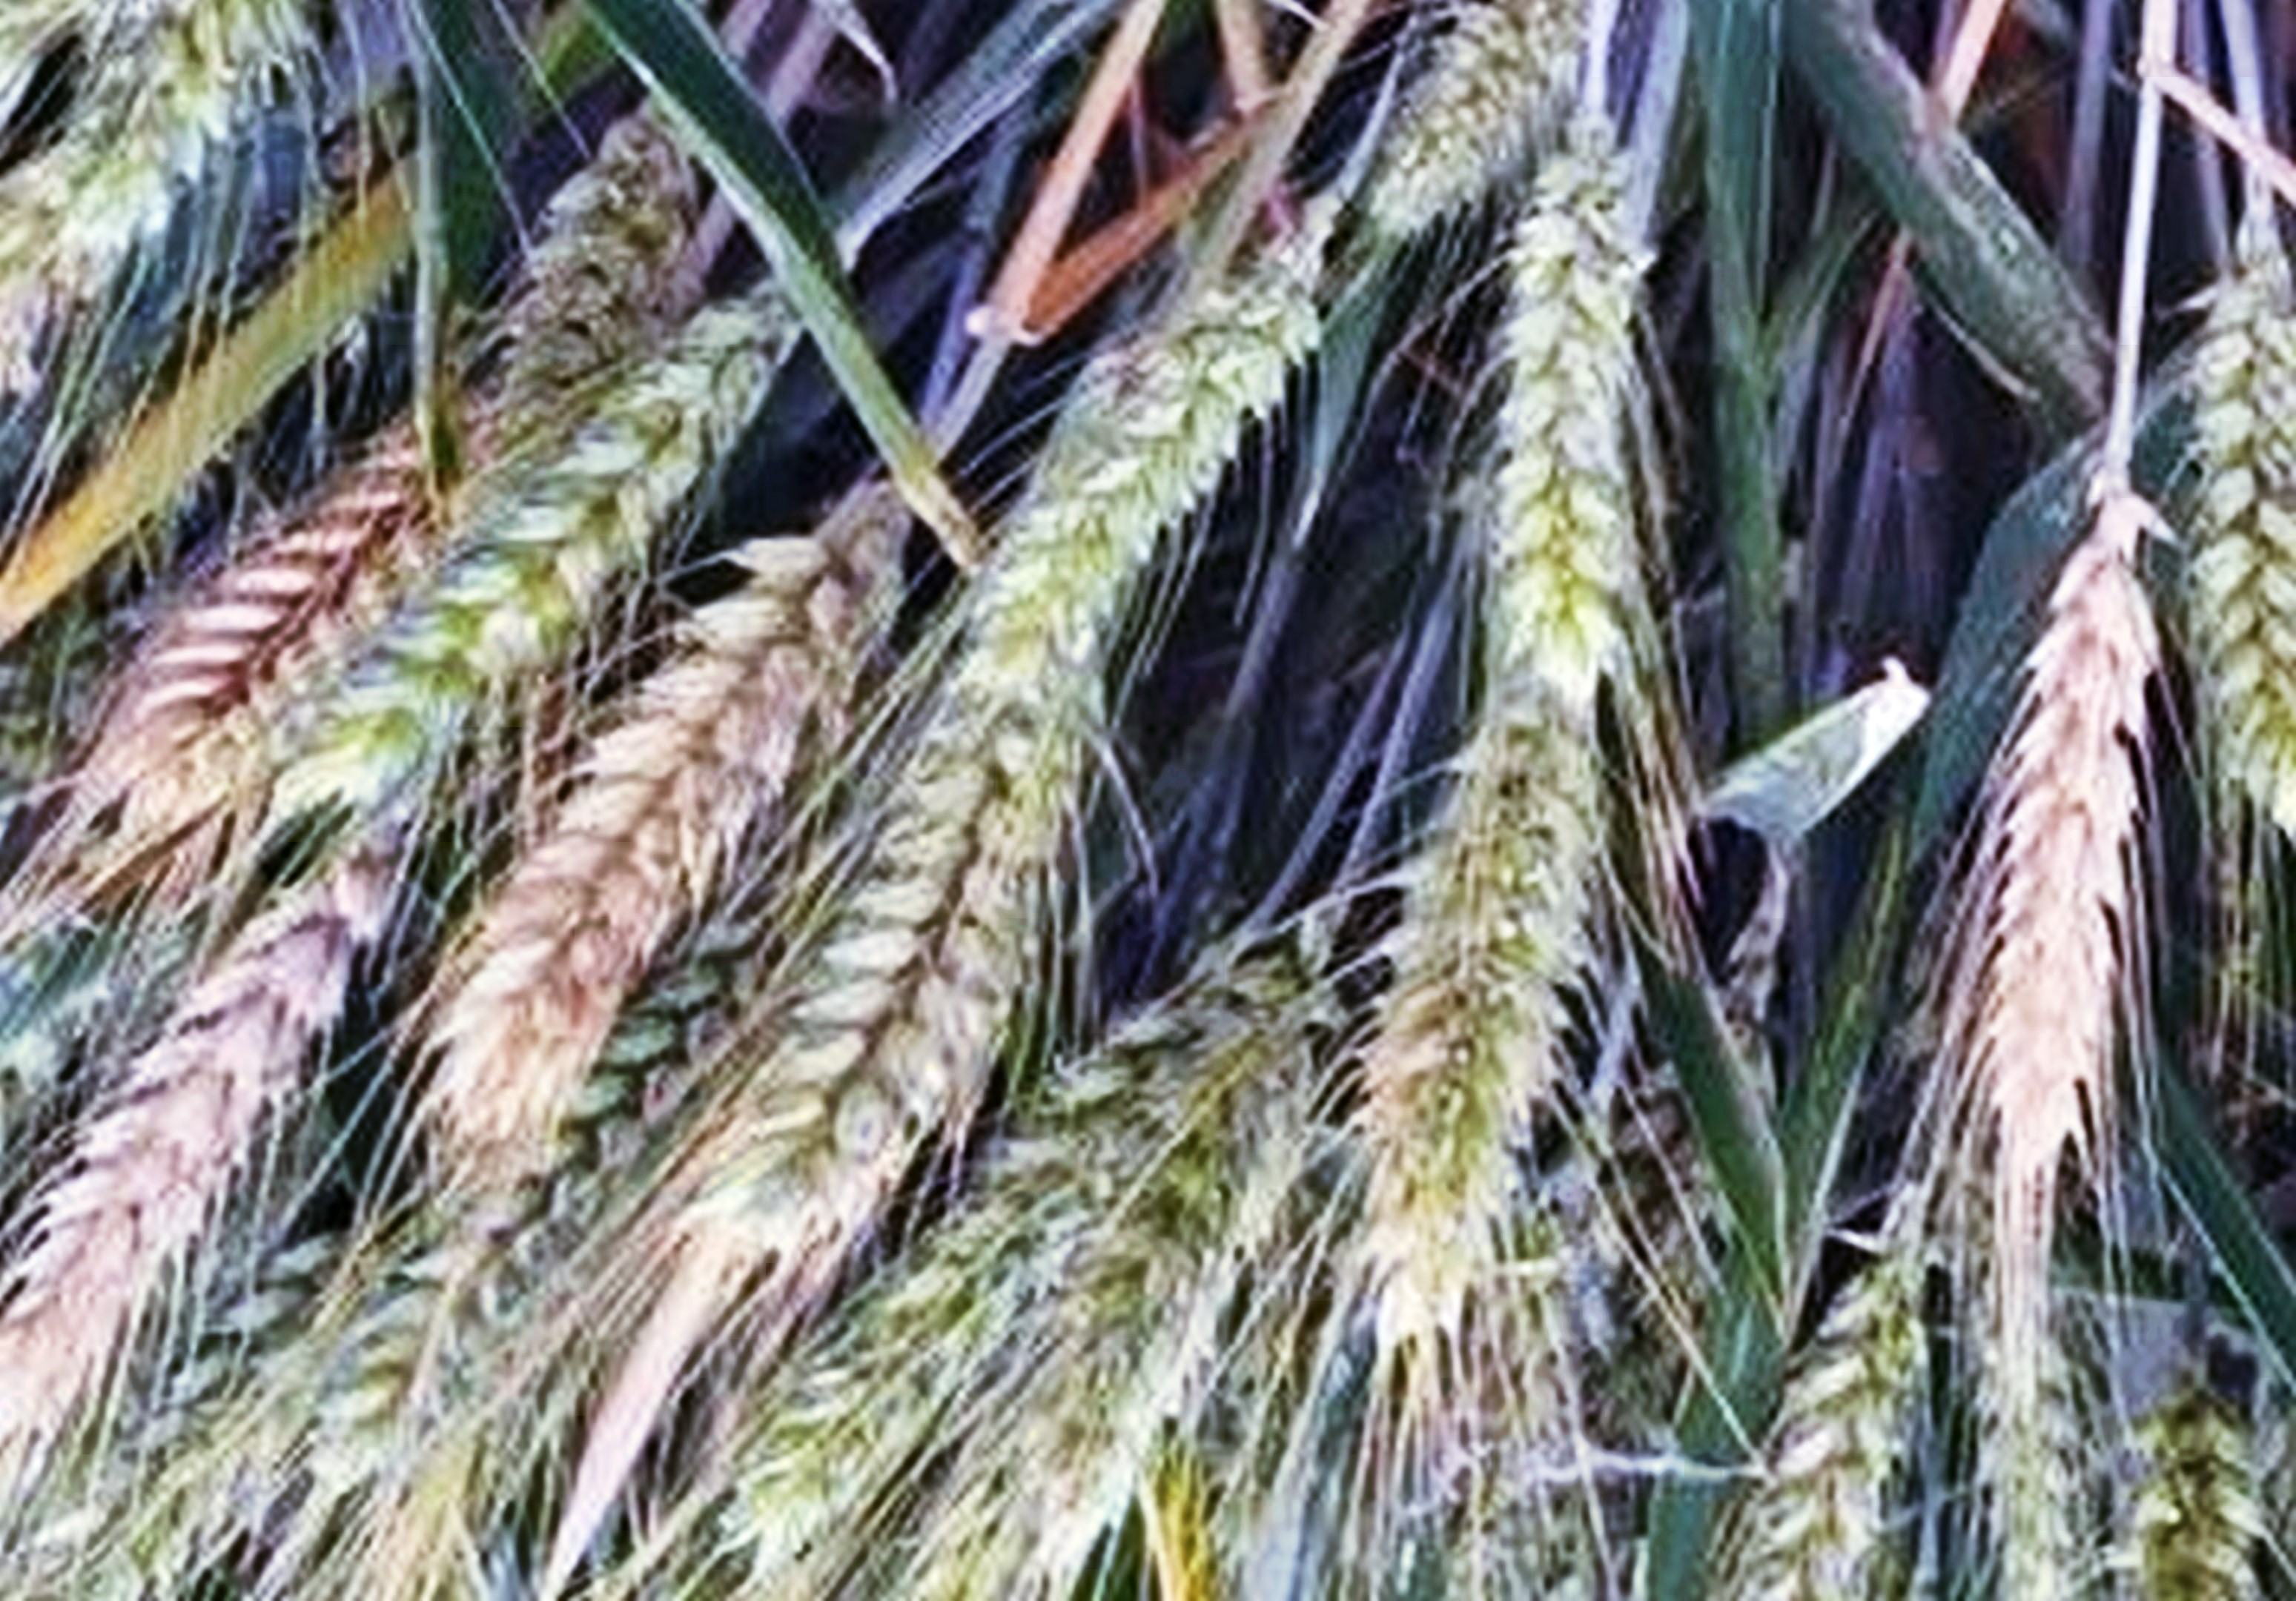Wheat scab: (0, 888, 384, 1367), (1907, 530, 2193, 1153)
